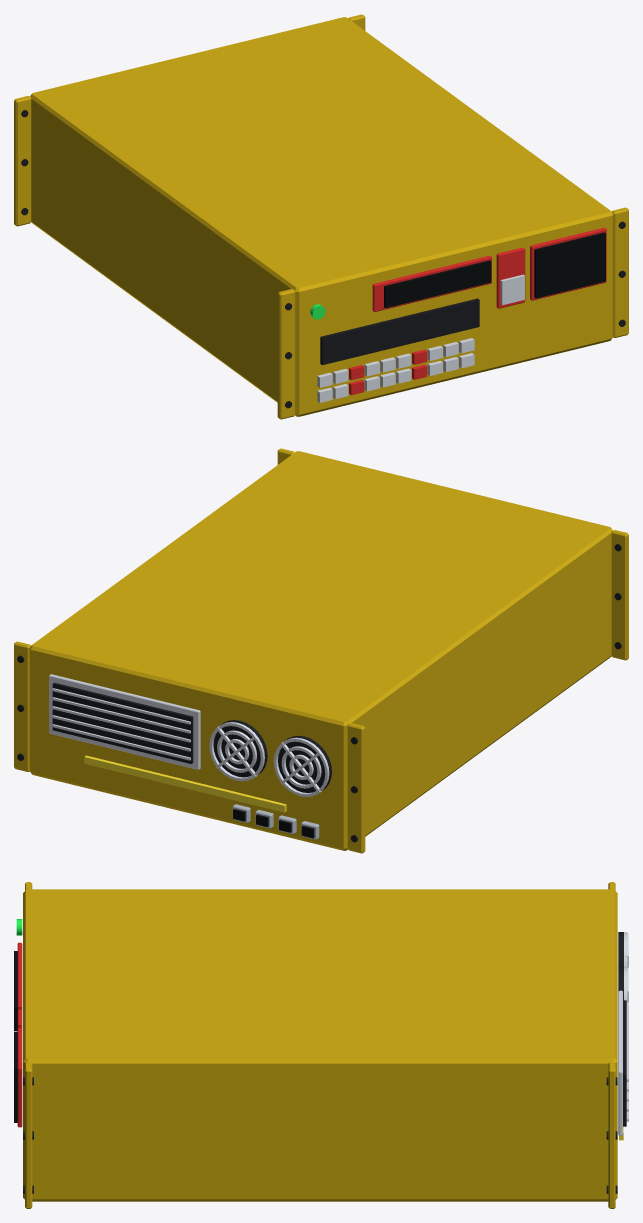
File: dc_server_yellow.obj
3 renders of one model, top to bottom at view 1: azimuth 30°, elevation 25°; view 2: azimuth 150°, elevation 25°; view 3: azimuth 270°, elevation 25°, orthographic. The views are drawn at different scales.
Parts seen in each view (by area): view 1: Server_Chassis_Body_Server_Yellow_Chassis, Front_UI_And_Displays_OLED_Panel_Black, Front_Drive_Indicators_Server_Dark_Steel, Front_Drive_Indicators_Server_Silver_Grille, Front_UI_And_Displays_UI_Accent_Red, Front_Drive_Indicators_UI_Accent_Red, Front_UI_And_Displays_Server_Silver_Grille; view 2: Server_Chassis_Body_Server_Yellow_Chassis, Rear_Fans_And_Radiator_Server_Silver_Grille, Rear_Fans_And_Radiator_Server_Dark_Steel, Rear_Network_Ports_Status_Bar_Yellow, Rear_Network_Ports_Network_Port_Shield, Rear_Network_Ports_OLED_Panel_Black; view 3: Server_Chassis_Body_Server_Yellow_Chassis, Rear_Fans_And_Radiator_Server_Silver_Grille, Front_UI_And_Displays_UI_Accent_Red, Rear_Fans_And_Radiator_Server_Dark_Steel, Front_UI_And_Displays_OLED_Panel_Black.
Boxes of the visible parts, box(x1,y1,x2,y2) form: Server_Chassis_Body_Server_Yellow_Chassis: box(14, 14, 628, 419); Front_UI_And_Displays_OLED_Panel_Black: box(384, 232, 605, 308); Front_Drive_Indicators_Server_Dark_Steel: box(320, 298, 479, 365); Front_Drive_Indicators_Server_Silver_Grille: box(317, 338, 474, 402); Front_UI_And_Displays_UI_Accent_Red: box(372, 227, 606, 311); Front_Drive_Indicators_UI_Accent_Red: box(349, 349, 427, 395); Front_UI_And_Displays_Server_Silver_Grille: box(500, 274, 524, 305); Server_Chassis_Body_Server_Yellow_Chassis: box(14, 448, 628, 853); Rear_Fans_And_Radiator_Server_Silver_Grille: box(49, 674, 329, 796); Rear_Fans_And_Radiator_Server_Dark_Steel: box(52, 682, 331, 792); Rear_Network_Ports_Status_Bar_Yellow: box(84, 755, 286, 812); Rear_Network_Ports_Network_Port_Shield: box(232, 804, 319, 839); Rear_Network_Ports_OLED_Panel_Black: box(233, 809, 314, 838); Server_Chassis_Body_Server_Yellow_Chassis: box(23, 882, 617, 1208); Rear_Fans_And_Radiator_Server_Silver_Grille: box(618, 932, 628, 1135); Front_UI_And_Displays_UI_Accent_Red: box(17, 942, 22, 1127); Rear_Fans_And_Radiator_Server_Dark_Steel: box(618, 932, 626, 1126); Front_UI_And_Displays_OLED_Panel_Black: box(14, 951, 17, 1122).
Size of the model in its own units: 0.488 by 0.172 by 0.6725.
